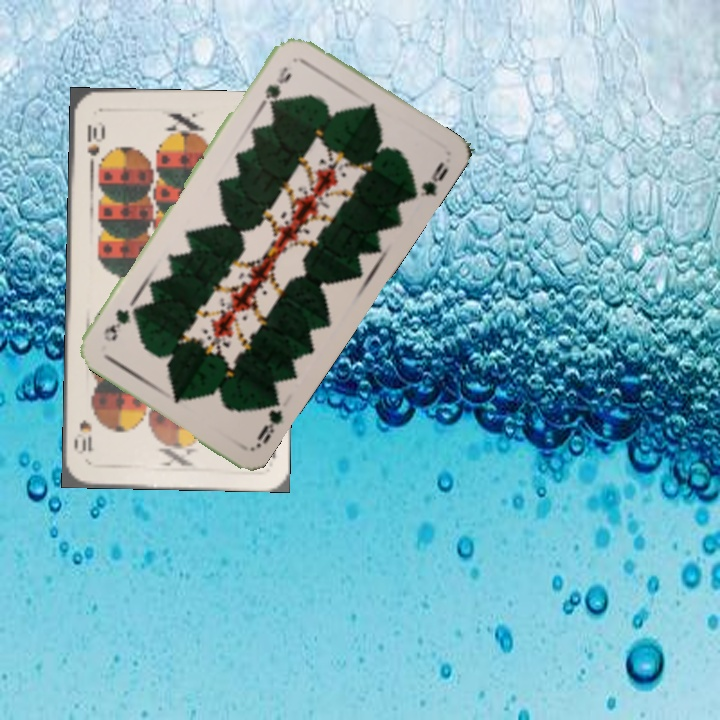G9: (252, 392, 286, 451), (260, 62, 293, 107)
S10: (83, 118, 103, 172)
